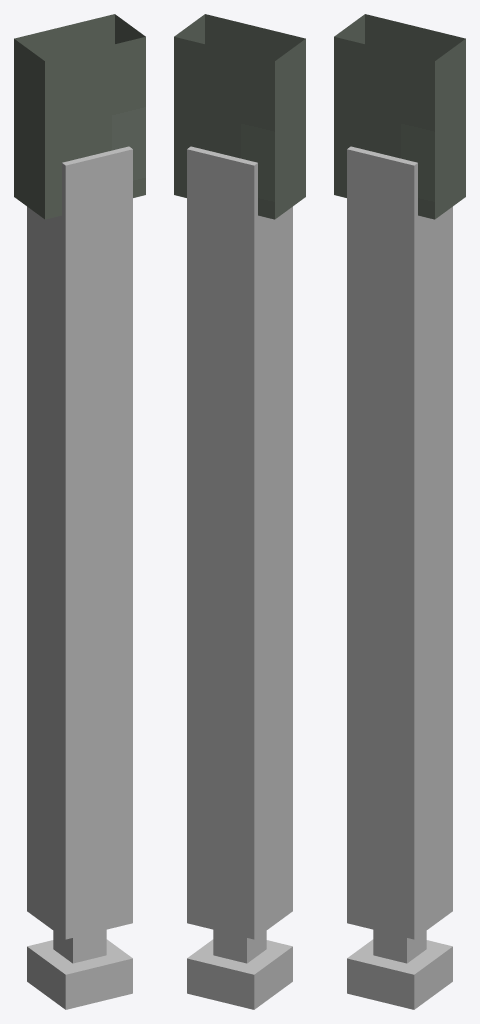
File: i_insulator_ceiling.obj
The picture shows the model from 3 angles, left to right: view 1: azimuth 30°, elevation 25°; view 2: azimuth 150°, elevation 25°; view 3: azimuth 330°, elevation 25°; orthographic projection.
Visible parts, largest first — view 1: i_2, bracket_connection1, wire_connection1, wire_connection2; view 2: i_2, bracket_connection1, wire_connection1, wire_connection2; view 3: i_2, bracket_connection1, wire_connection1, wire_connection2.
Part boxes in pixels (bbox=[...]): i_2: bbox=[27, 146, 132, 939]; bracket_connection1: bbox=[14, 14, 145, 219]; wire_connection1: bbox=[27, 939, 132, 1009]; wire_connection2: bbox=[53, 929, 106, 963]; i_2: bbox=[187, 146, 292, 939]; bracket_connection1: bbox=[174, 14, 305, 219]; wire_connection1: bbox=[187, 939, 292, 1009]; wire_connection2: bbox=[213, 929, 266, 963]; i_2: bbox=[347, 146, 452, 939]; bracket_connection1: bbox=[334, 14, 465, 219]; wire_connection1: bbox=[347, 939, 452, 1009]; wire_connection2: bbox=[373, 929, 426, 963].
Bounding box in the file's own units: 0.0938 × 0.8438 × 0.0625.
